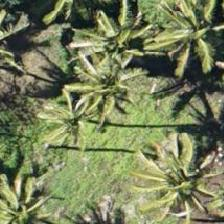coconut_tree: (37, 38, 127, 128), (135, 133, 223, 223), (74, 0, 164, 73), (141, 0, 223, 73), (0, 159, 45, 223)
